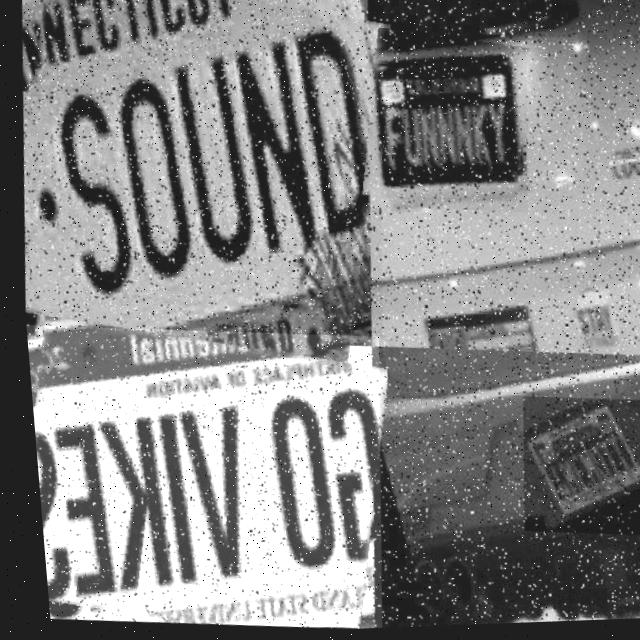LicensePlate: (0, 0, 402, 370), (21, 314, 391, 640), (351, 28, 536, 221), (506, 396, 640, 544)
